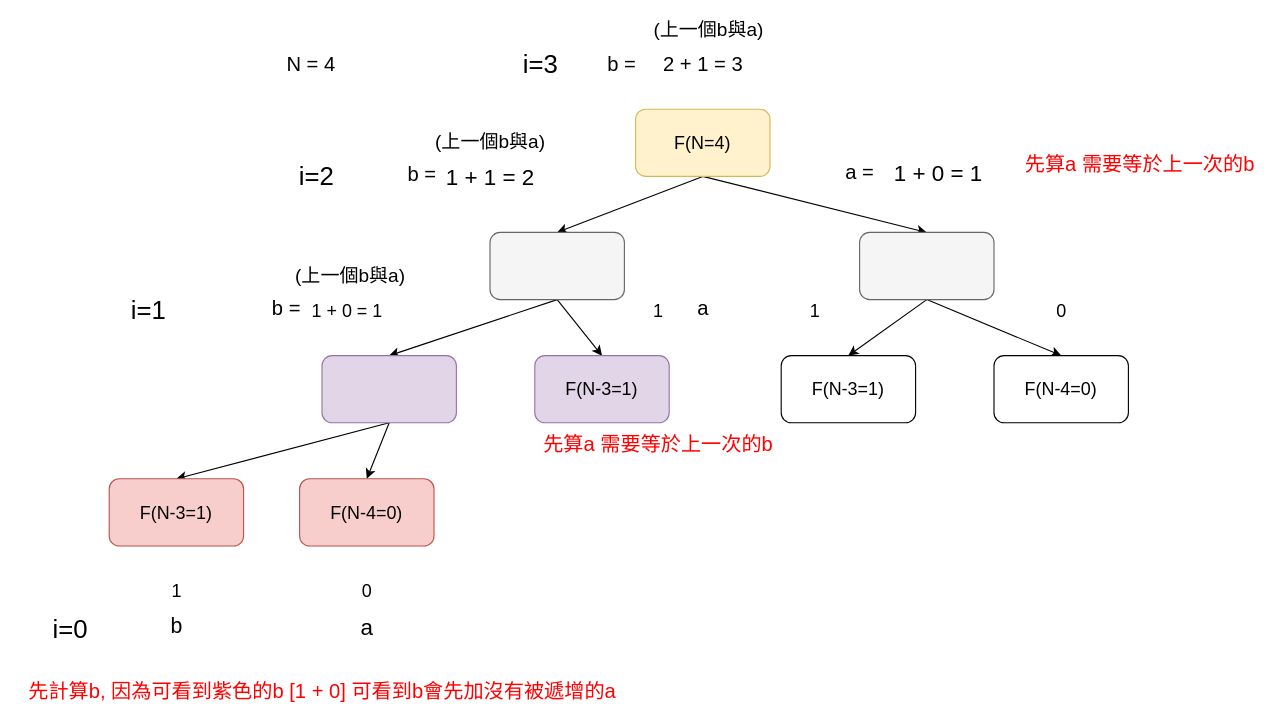
The diagram is 1281 pixels wide and 722 high, and some of its shapes have lost their labels. Here are the shapes that lost their labels. From the top down, the centre of each, then its label:
At pixel 556 265: "F(N-1=3)".
At pixel 926 265: "F(N-2)".
At pixel 388 388: "F(N-2=2)".
